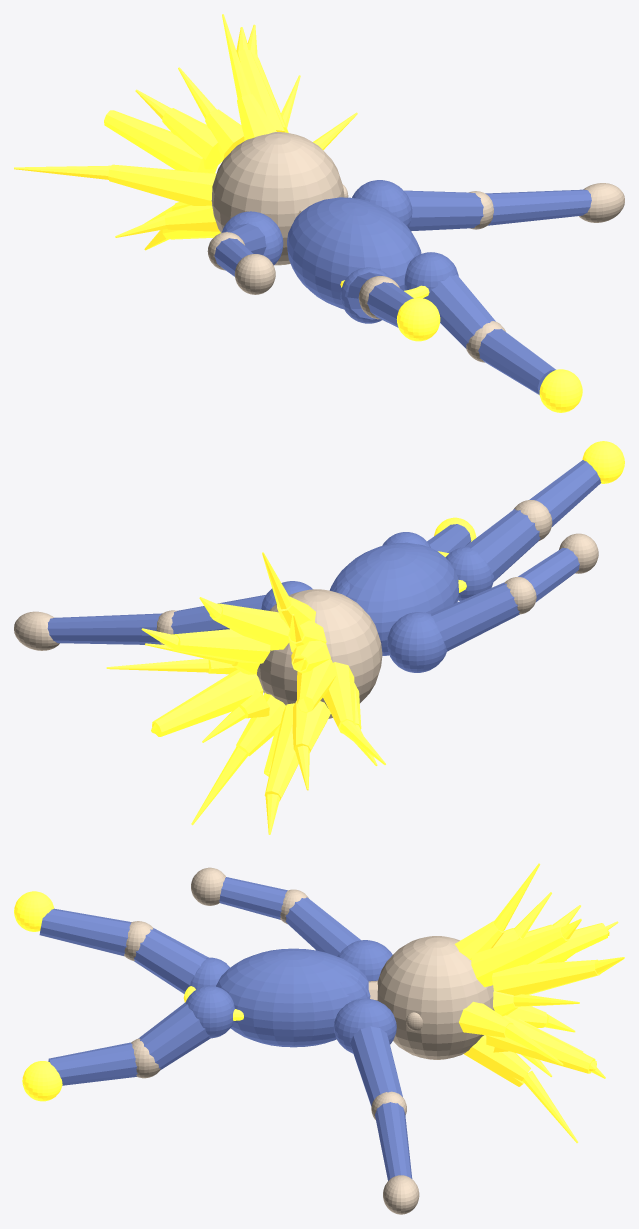
The model's file is ssj.glb.
The picture shows the model from 3 angles, top to bottom: view 1: azimuth 30°, elevation 25°; view 2: azimuth 150°, elevation 25°; view 3: azimuth 270°, elevation 25°; orthographic projection. The views are drawn at different scales.
Visible parts, largest first — view 1: Sphere.004, Sphere, Cone.036, Cone.017, Cone.015, Cone.035, Cone.039, Cone.040, Cone.013, Sphere.015, Sphere.017, Sphere.013 (+17 smaller); view 2: Sphere.004, Sphere, Cone.033, Cone.036, Cone.031, Sphere.006, Cone.037, Cone.005, Cone.007, Cone.038, Cone.023, Cone.034 (+20 smaller); view 3: Sphere.004, Sphere, Cone.038, Cone.040, Cone.037, Cone.005, Cone.035, Cone.039, Cone.007, Cone.033, Cone.031, Cone.036 (+20 smaller).
Part boxes in pixels (<box>): Sphere.004: <box>287,197,421,309</box>; Sphere: <box>211,132,344,265</box>; Cone.036: <box>485,189,591,225</box>; Cone.017: <box>108,164,216,205</box>; Cone.015: <box>104,110,217,173</box>; Cone.035: <box>404,190,483,231</box>; Cone.039: <box>425,274,495,348</box>; Cone.040: <box>478,329,555,394</box>; Cone.013: <box>162,108,222,169</box>; Sphere.015: <box>396,298,440,341</box>; Sphere.017: <box>539,369,582,412</box>; Sphere.013: <box>404,252,458,298</box>; Sphere.004: <box>329,542,458,655</box>; Sphere: <box>257,589,382,718</box>; Cone.033: <box>431,582,519,651</box>; Cone.036: <box>47,613,162,644</box>; Cone.031: <box>152,669,263,736</box>; Sphere.006: <box>387,612,447,672</box>; Cone.037: <box>465,509,540,581</box>; Cone.005: <box>171,629,270,663</box>; Cone.007: <box>209,603,289,650</box>; Cone.038: <box>529,460,601,526</box>; Cone.023: <box>264,703,298,801</box>; Cone.034: <box>518,548,579,601</box>; Sphere.004: <box>216,948,370,1047</box>; Sphere: <box>377,936,494,1059</box>; Cone.038: <box>39,908,131,956</box>; Cone.040: <box>48,1042,137,1085</box>; Cone.037: <box>134,928,208,993</box>; Cone.005: <box>492,959,600,995</box>; Cone.035: <box>350,1026,402,1106</box>; Cone.039: <box>138,1002,210,1070</box>; Cone.007: <box>471,926,568,987</box>; Cone.033: <box>285,897,360,956</box>; Cone.031: <box>486,1014,595,1073</box>; Cone.036: <box>375,1102,412,1180</box>.
Bounding box in the file's own units: 4.44 × 2.37 × 5.11.
